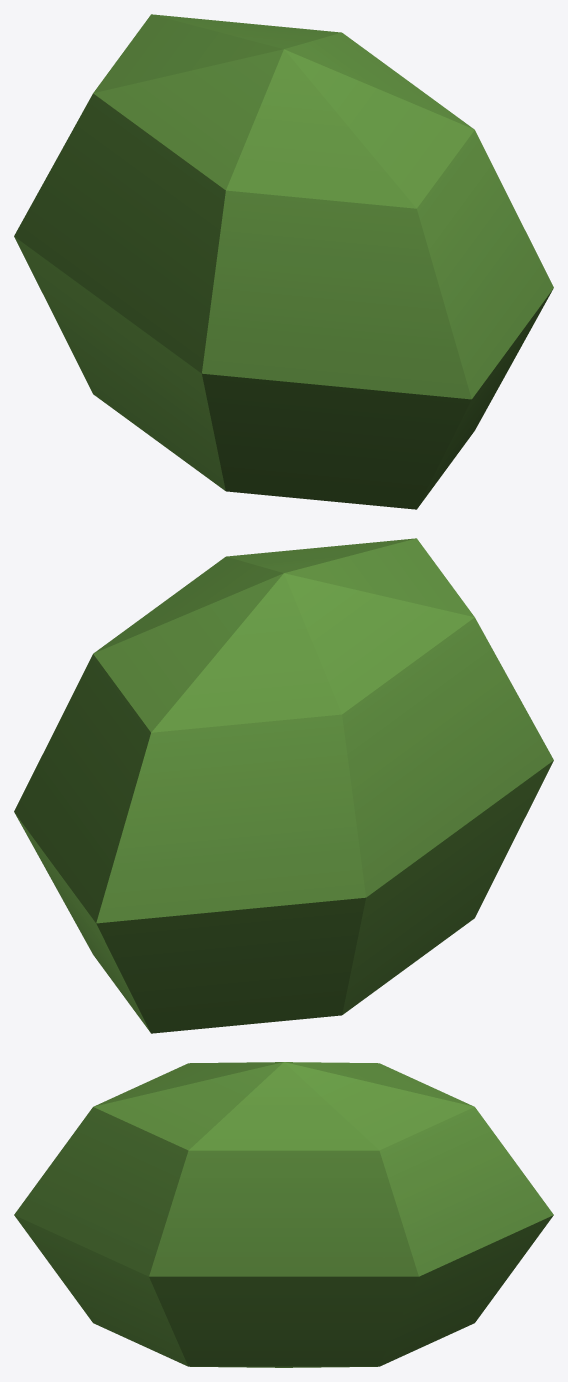
Rendered from spit.glb.
3 views of the same model, one above another, from view 1: azimuth 30°, elevation 25°; view 2: azimuth 150°, elevation 25°; view 3: azimuth 270°, elevation 25° (orthographic). The views are drawn at different scales.
Parts seen in each view (by area): view 1: spit; view 2: spit; view 3: spit.
Boxes of the visible parts, bbox=[...] form: spit: bbox=[14, 14, 553, 509]; spit: bbox=[14, 538, 553, 1033]; spit: bbox=[14, 1062, 553, 1367].
Bounding box in the file's own units: 0.2078 × 0.24 × 0.384.
1 material, 1 textured.
